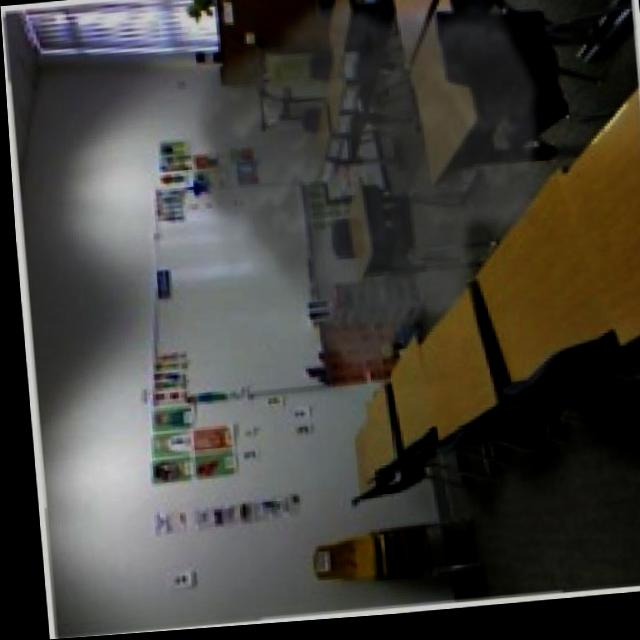Smoke: (173, 0, 566, 401)
